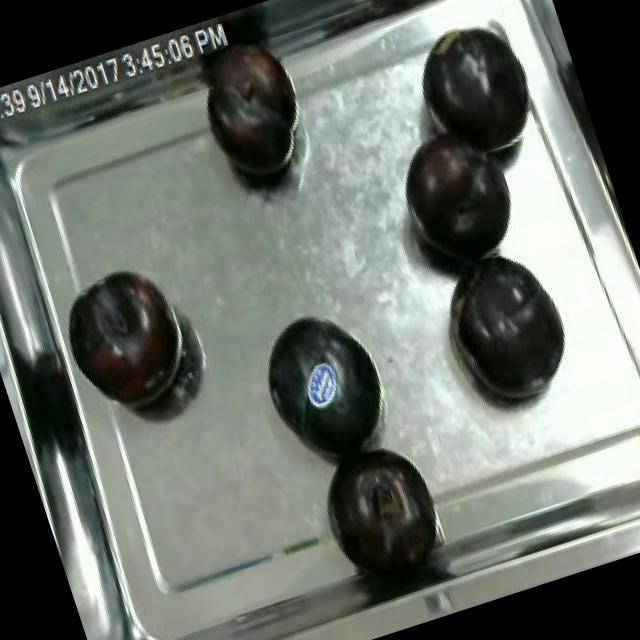Fruit: (240, 287, 408, 478), (374, 104, 540, 290), (429, 233, 588, 420), (397, 2, 558, 178), (47, 252, 204, 428), (180, 23, 328, 204), (310, 431, 452, 584)
